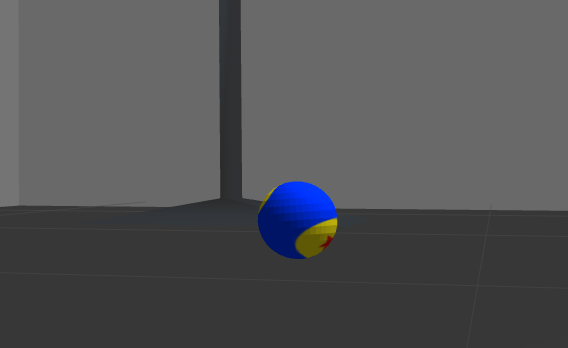toy_story_ball: (257, 181, 338, 261)
